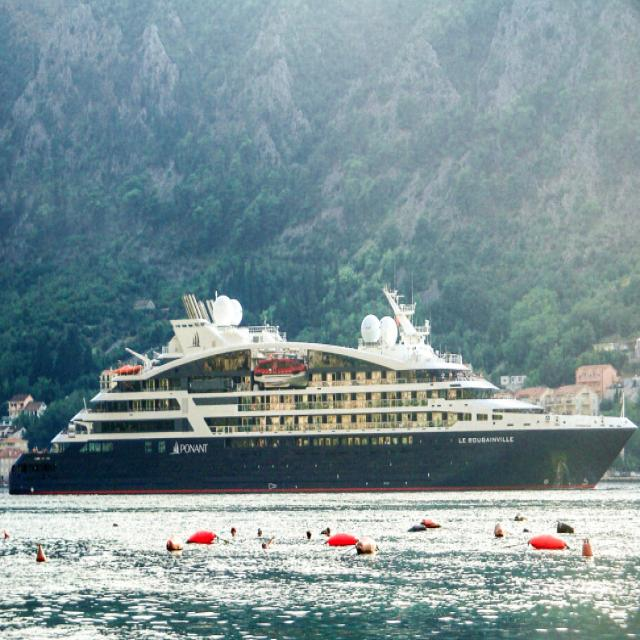cruises: (11, 269, 640, 504)
